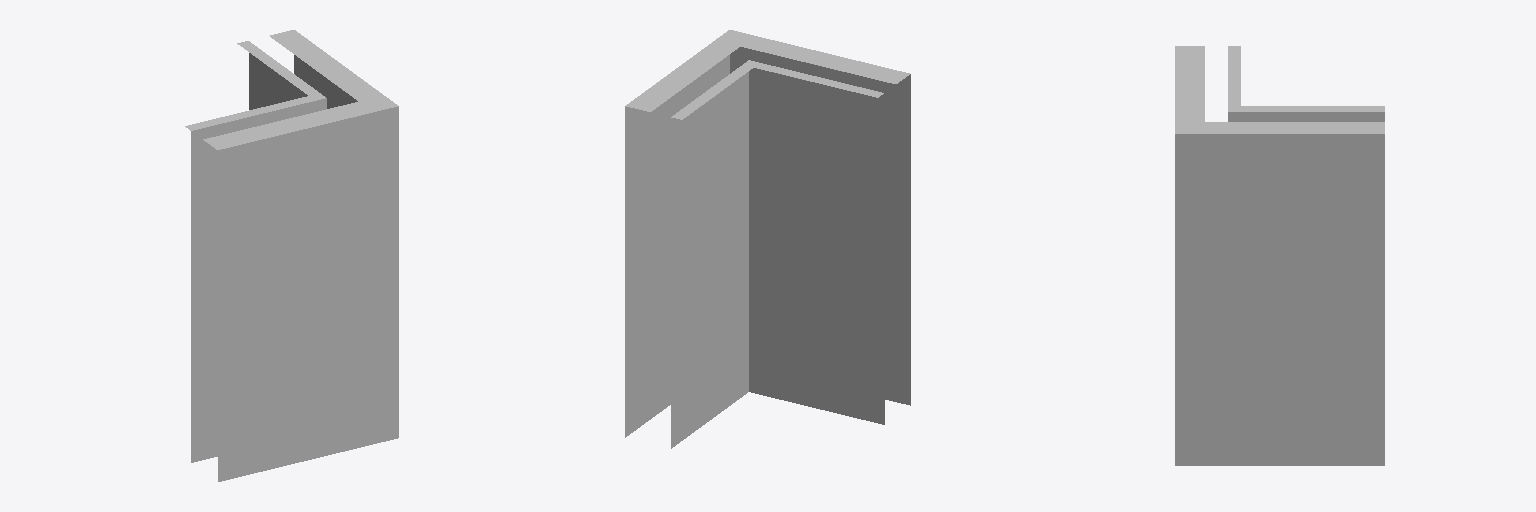
The model's file is Building_Bottom_Corner_A_LOD0.obj.
3 views of the same model, side by side, from view 1: azimuth 30°, elevation 25°; view 2: azimuth 150°, elevation 25°; view 3: azimuth 270°, elevation 25° (orthographic).
Parts seen in each view (by area): view 1: Building_Bottom_Corner_A_LOD0 Building_Bottom_Corner_A; view 2: Building_Bottom_Corner_A_LOD0 Building_Bottom_Corner_A; view 3: Building_Bottom_Corner_A_LOD0 Building_Bottom_Corner_A.
Boxes of the visible parts, <box> form: Building_Bottom_Corner_A_LOD0 Building_Bottom_Corner_A: <box>185,30,398,481</box>; Building_Bottom_Corner_A_LOD0 Building_Bottom_Corner_A: <box>625,30,910,448</box>; Building_Bottom_Corner_A_LOD0 Building_Bottom_Corner_A: <box>1175,46,1384,465</box>.
Bounding box in the file's own units: 200 × 350 × 200.